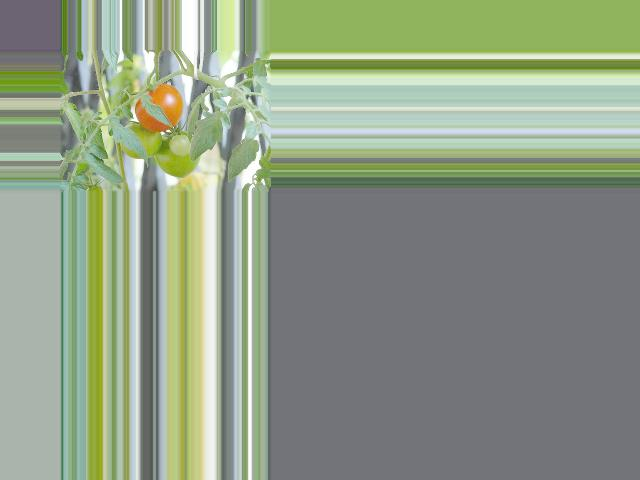tomato: (135, 83, 184, 131)
